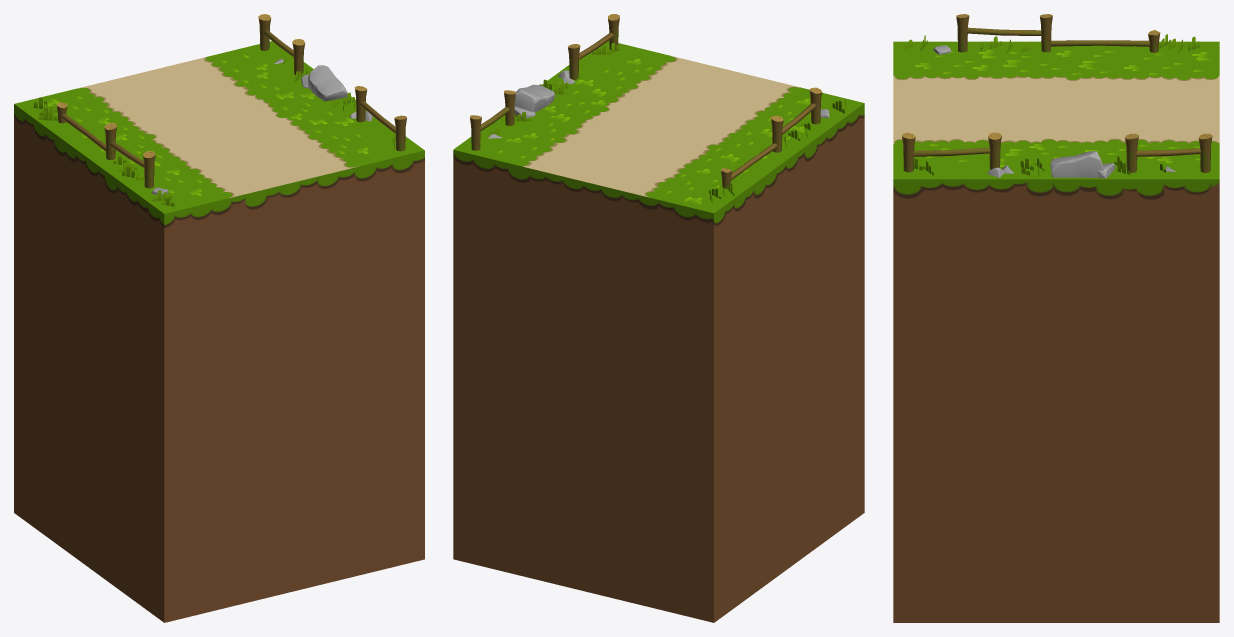
The model's file is Plataforma 2.fbx.
3 renders of one model, left to right at view 1: azimuth 30°, elevation 25°; view 2: azimuth 150°, elevation 25°; view 3: azimuth 270°, elevation 25°, orthographic. The views are drawn at different scales.
Visible parts, largest first — view 1: Plataforma 1.002, Cube.107; view 2: Plataforma 1.002, Cube.107; view 3: Plataforma 1.002, Cube.107, Cylinder.073, Cylinder.075, Cylinder.074, Cylinder.063, Cylinder.071.
Boxes of the visible parts, <box> form: Plataforma 1.002: <box>14,41,424,622</box>; Cube.107: <box>308,65,347,101</box>; Plataforma 1.002: <box>453,41,864,622</box>; Cube.107: <box>514,84,554,112</box>; Plataforma 1.002: <box>893,41,1219,622</box>; Cube.107: <box>1050,151,1103,177</box>; Cylinder.073: <box>1050,40,1150,46</box>; Cylinder.075: <box>913,147,990,156</box>; Cylinder.074: <box>967,27,1041,35</box>; Cylinder.063: <box>902,132,915,172</box>; Cylinder.071: <box>1125,133,1138,172</box>.
Bounding box in the file's own units: 1004 × 1620 × 1000.
